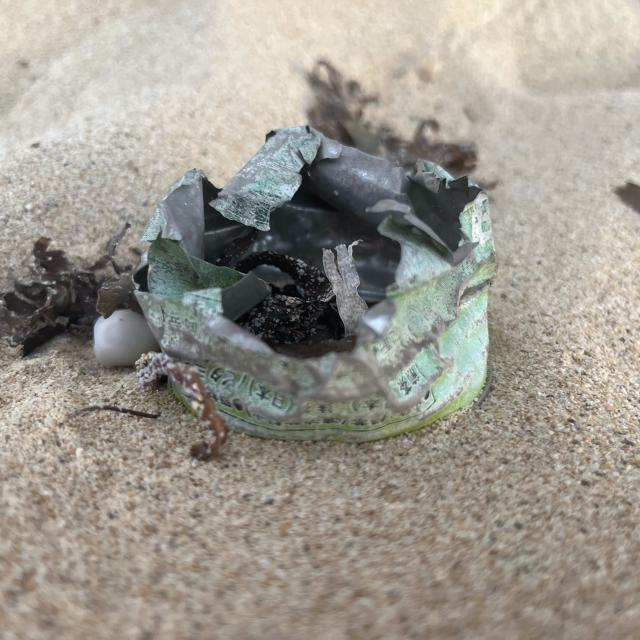trash: (119, 111, 558, 454)
